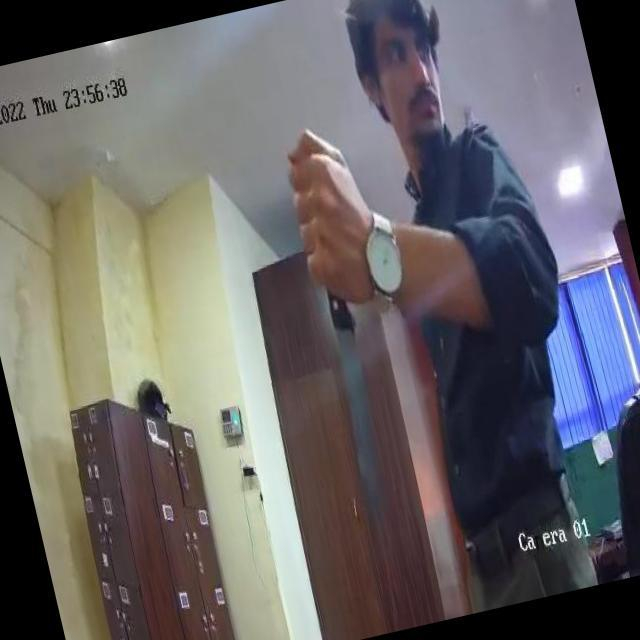Knife: (263, 111, 412, 529)
